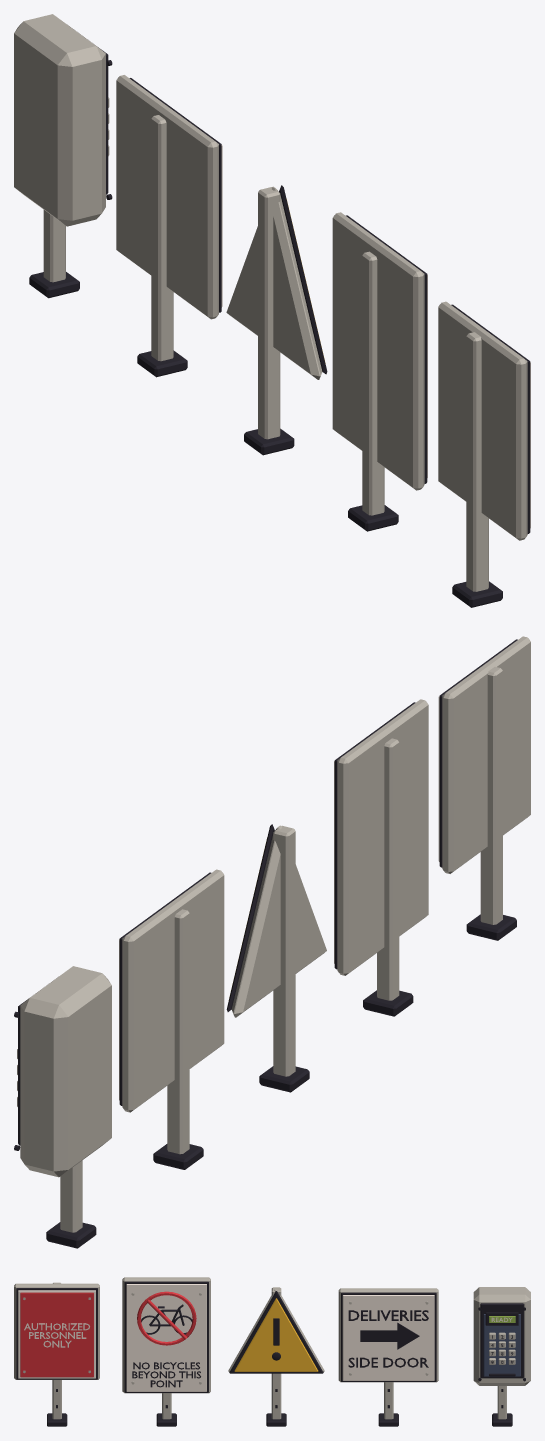
3 views of the same model, one above another, from view 1: azimuth 30°, elevation 25°; view 2: azimuth 150°, elevation 25°; view 3: azimuth 270°, elevation 25° (orthographic). The views are drawn at different scales.
Parts seen in each view (by area): view 1: sign_nobike_pal_silver, sign_deliveries_pal_silver, keypad_pal_silver, sign_authorized_pal_silver, sign_hazard_pal_silver, sign_hazard_pal_uiDark, sign_nobike_pal_uiDark, sign_authorized_pal_uiDark, sign_deliveries_pal_uiDark, keypad_pal_uiDark; view 2: sign_nobike_pal_silver, sign_deliveries_pal_silver, keypad_pal_silver, sign_authorized_pal_silver, sign_hazard_pal_silver, sign_hazard_pal_uiDark, sign_nobike_pal_uiDark, sign_deliveries_pal_uiDark, sign_authorized_pal_uiDark, keypad_pal_uiDark; view 3: sign_nobike_pal_picketWhite, sign_deliveries_pal_picketWhite, sign_authorized_pal_survivorRed, keypad_pal_silver, sign_hazard_pal_schoolBusYellow, sign_deliveries_pal_uiDark, sign_nobike_pal_uiDark, keypad_pal_uiDark, sign_deliveries_pal_silver, keypad_pal_denim, sign_authorized_pal_picketWhite, sign_hazard_pal_uiDark (+5 smaller).
Part boxes in pixels (x1,y1,x2,y2): sign_nobike_pal_silver: (332, 212, 424, 515); sign_deliveries_pal_silver: (116, 75, 218, 361); keypad_pal_silver: (14, 14, 109, 282); sign_authorized_pal_silver: (438, 301, 527, 591); sign_hazard_pal_silver: (226, 186, 322, 439); sign_hazard_pal_uiDark: (244, 185, 327, 455); sign_nobike_pal_uiDark: (346, 215, 427, 531); sign_authorized_pal_uiDark: (451, 304, 530, 607); sign_deliveries_pal_uiDark: (129, 78, 221, 377); keypad_pal_uiDark: (29, 47, 112, 298); sign_nobike_pal_silver: (337, 699, 428, 1000); sign_deliveries_pal_silver: (122, 869, 224, 1154); keypad_pal_silver: (17, 966, 111, 1232); sign_authorized_pal_silver: (442, 636, 530, 924); sign_hazard_pal_silver: (231, 825, 326, 1076); sign_hazard_pal_uiDark: (226, 824, 309, 1092); sign_nobike_pal_uiDark: (334, 702, 415, 1016); sign_deliveries_pal_uiDark: (119, 872, 210, 1169); sign_authorized_pal_uiDark: (439, 639, 517, 940); keypad_pal_uiDark: (14, 998, 96, 1248); sign_nobike_pal_picketWhite: (126, 1284, 206, 1391); sign_deliveries_pal_picketWhite: (342, 1295, 434, 1380); sign_authorized_pal_survivorRed: (20, 1292, 93, 1377); keypad_pal_silver: (473, 1287, 530, 1419); sign_hazard_pal_schoolBusYellow: (234, 1298, 318, 1371); sign_deliveries_pal_uiDark: (341, 1292, 436, 1426); sign_nobike_pal_uiDark: (124, 1281, 208, 1426); keypad_pal_uiDark: (478, 1303, 525, 1426); sign_deliveries_pal_silver: (338, 1288, 438, 1419); keypad_pal_denim: (483, 1314, 520, 1376); sign_authorized_pal_picketWhite: (18, 1290, 95, 1378); sign_hazard_pal_uiDark: (229, 1291, 323, 1426).
Size of the model in its own units: 0.2961 by 1.27 by 4.05.
